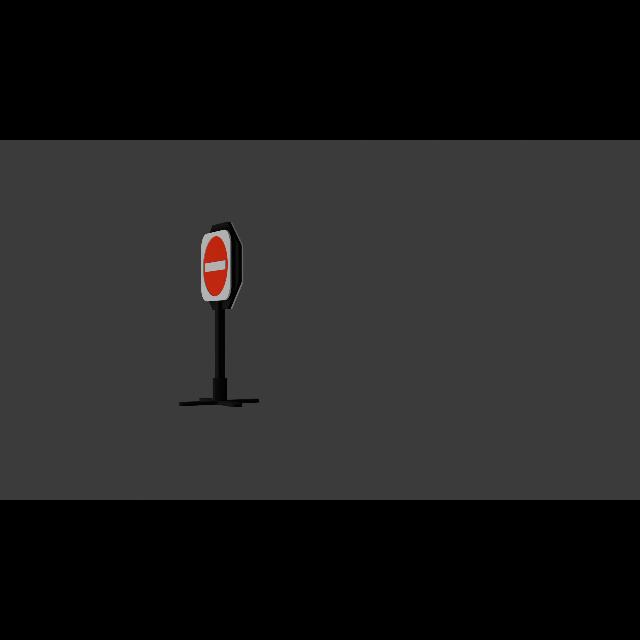sign_noentry: (201, 232, 238, 304)
